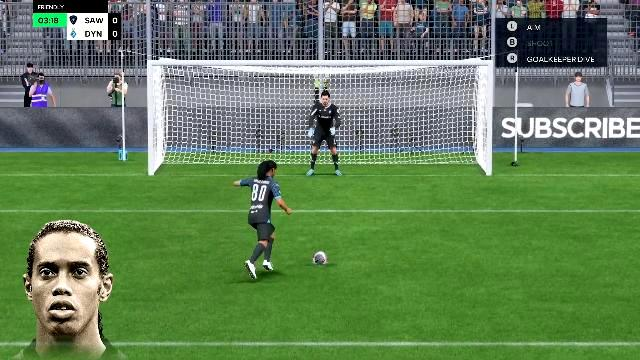bottom-left: (158, 126, 272, 176)
bottom-right: (375, 126, 489, 176)
center-down: (275, 127, 373, 177)
center-up: (274, 69, 370, 121)
football: (312, 252, 330, 264)
goalkeeper: (308, 89, 344, 179)
player: (231, 165, 287, 279)
top-left: (156, 67, 272, 121)
top-right: (374, 66, 490, 122)
